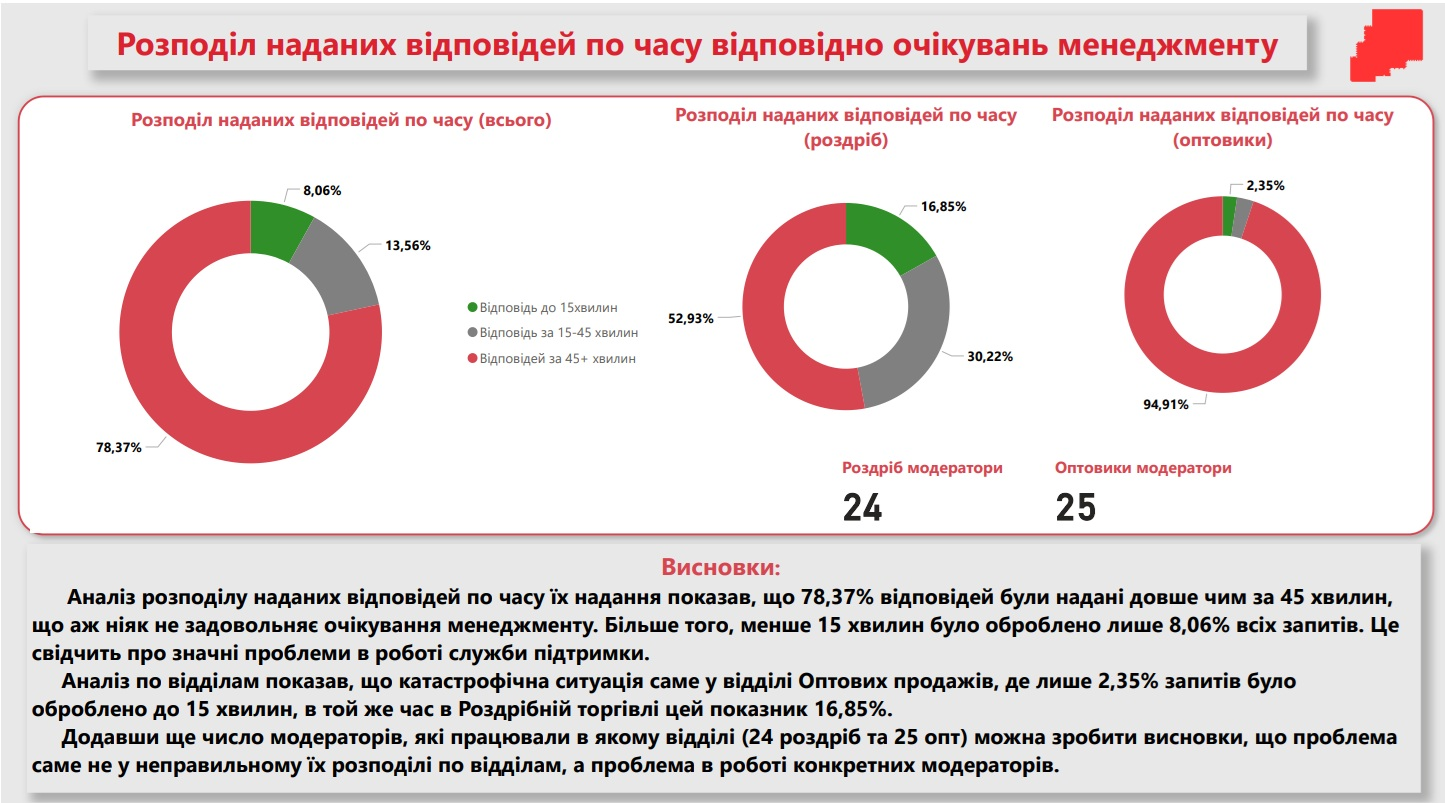

The dashboard page shown, as its layout file describes it:
{"tool":"powerbi","page":{"name":"SLA_categories","canvas":[1450,800],"ordinal":3},"visuals":[{"type":"textbox","box":[87.1,12.4,1220.3,54.4],"z":0},{"type":"image","box":[1322.8,0,127.5,83.9],"z":1000},{"type":"shape","box":[7.8,83.9,1434.8,457],"z":2000,"group":"g1"},{"type":"textbox","box":[26.4,541,1394.4,248.7],"z":2000},{"type":"group","id":"g1","title":"Group 12","box":[7.8,83.9,1434.8,457],"z":3000},{"type":"donutChart","title":"Розподіл наданих відповідей по часу (роздріб)","fields":{"Y":["events.Відповідь до 15хвилин","events.Відповідь за 15-45 хвилин","events.Відповідей за 45+ хвилин"]},"box":[663.8,97.9,363.7,360.6],"z":4000},{"type":"donutChart","title":"Розподіл наданих відповідей по часу (оптовики)","fields":{"Y":["events.Відповідь до 15хвилин","events.Відповідь за 15-45 хвилин","events.Відповідей за 45+ хвилин"]},"box":[1041.5,97.9,363.7,337.3],"z":5000},{"type":"donutChart","title":"Розподіл наданих відповідей по часу (всього)","fields":{"Y":["events.Відповідь до 15хвилин","events.Відповідь за 15-45 хвилин","events.Відповідей за 45+ хвилин"]},"box":[28.4,102.6,624.9,427.5],"z":5000,"group":"g1"},{"type":"cardVisual","fields":{"Data":["events.RetailModerators","events.WholesaleModerators"]},"box":[825.4,435.3,430.6,90.2],"z":6000}]}

Visuals, with their boxes in screenshot pixels (x1, y1, x2, y2), scaled from the page's 1450x800 canvas onto the 1445x803 screenshot:
textbox: 87:12:1303:67
image: 1318:0:1444:84
shape: 8:84:1438:543
textbox: 26:543:1416:793
"Group 12" group: 8:84:1438:543
"Розподіл наданих відповідей по часу (роздріб)" donutChart: 662:98:1024:460
"Розподіл наданих відповідей по часу (оптовики)" donutChart: 1038:98:1400:437
"Розподіл наданих відповідей по часу (всього)" donutChart: 28:103:651:532
cardVisual - events.RetailModerators x events.WholesaleModerators: 823:437:1252:527
